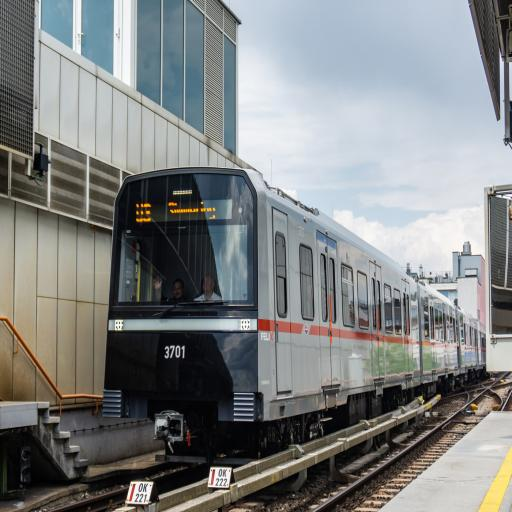X-Wagen: (101, 172, 487, 452)
